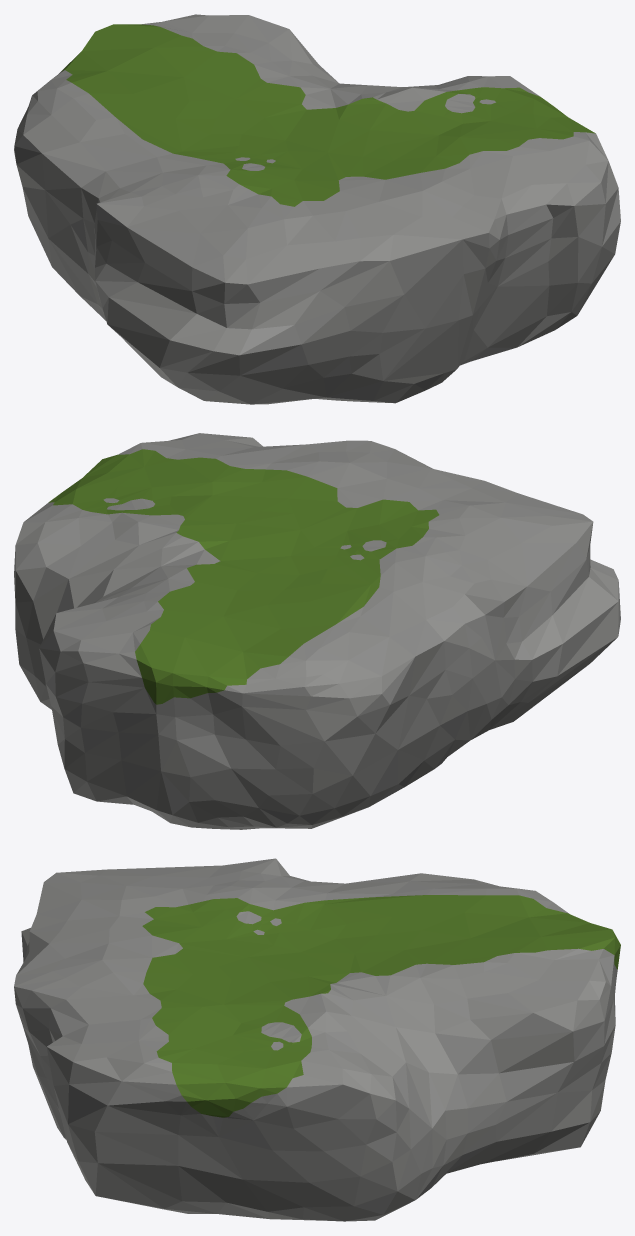
The model's file is Cavern_FloorGrass_Narrow_Corner-01.fbx.
3 views of the same model, one above another, from view 1: azimuth 30°, elevation 25°; view 2: azimuth 150°, elevation 25°; view 3: azimuth 270°, elevation 25° (orthographic).
Parts seen in each view (by area): view 1: Cavern_FloorGrass_Narrow_Corner-01; view 2: Cavern_FloorGrass_Narrow_Corner-01; view 3: Cavern_FloorGrass_Narrow_Corner-01.
Part boxes in pixels (x1=…): Cavern_FloorGrass_Narrow_Corner-01: x1=14, y1=14, x2=620, y2=404; Cavern_FloorGrass_Narrow_Corner-01: x1=14, y1=433, x2=620, y2=829; Cavern_FloorGrass_Narrow_Corner-01: x1=14, y1=858, x2=620, y2=1221.
Size of the model in its own units: 1121 by 452 by 1212.
1 material, 1 textured.
